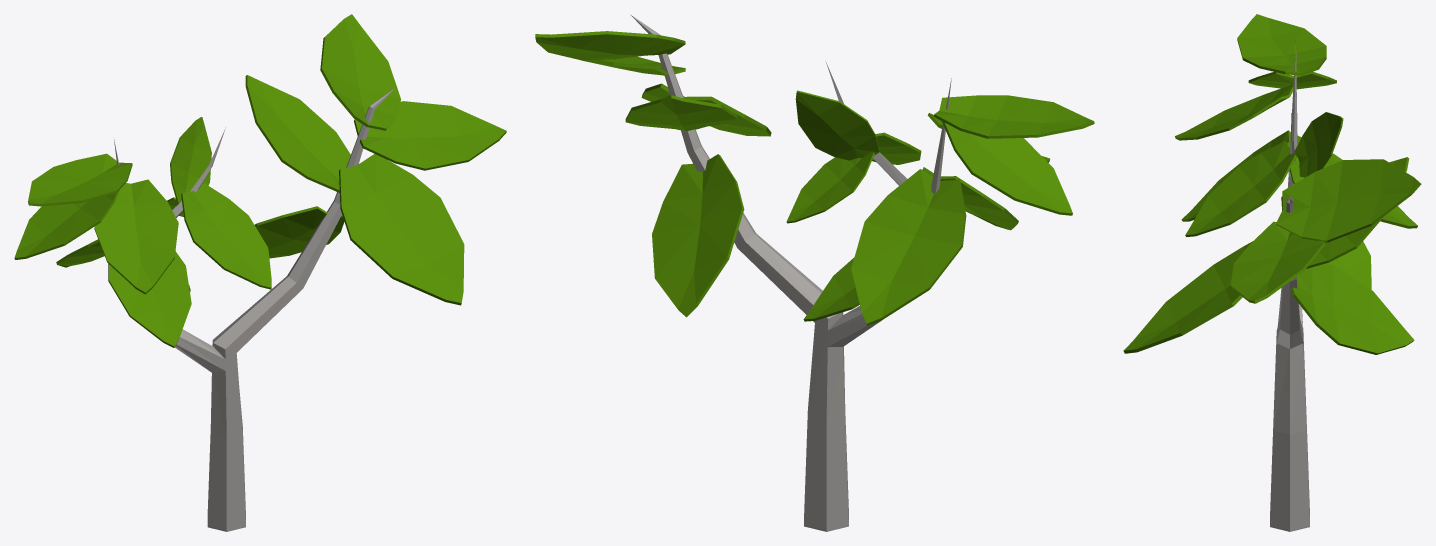
The model's file is bangal.fbx.
3 views of the same model, side by side, from view 1: azimuth 30°, elevation 25°; view 2: azimuth 150°, elevation 25°; view 3: azimuth 270°, elevation 25° (orthographic). The views are drawn at different scales.
Visible parts, largest first — view 1: Cylinder001; view 2: Cylinder001; view 3: Cylinder001.
Part boxes in pixels (bbox=[...]): Cylinder001: bbox=[14, 14, 506, 531]; Cylinder001: bbox=[535, 14, 1094, 531]; Cylinder001: bbox=[1123, 14, 1421, 531].
Size of the model in its own units: 218 by 182 by 113.
